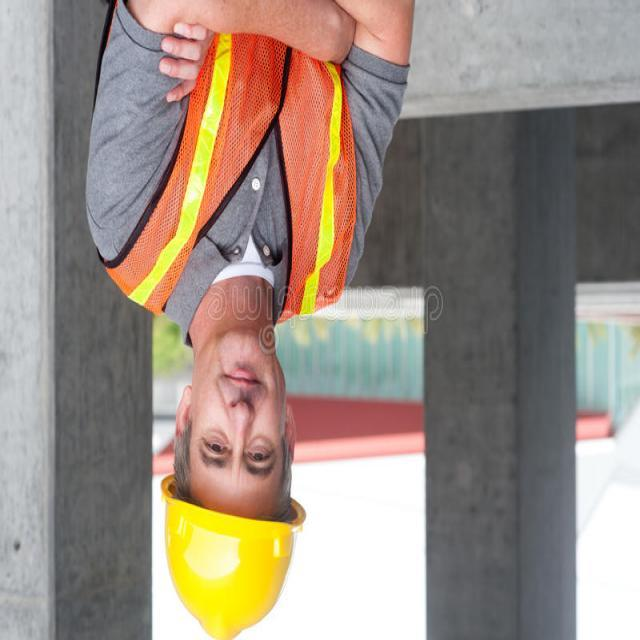safetyhelmet: (147, 335, 300, 632)
